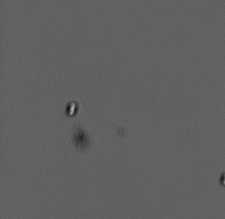Dead Cell: (74, 130, 88, 146)
Living Cell: (64, 101, 78, 117)
